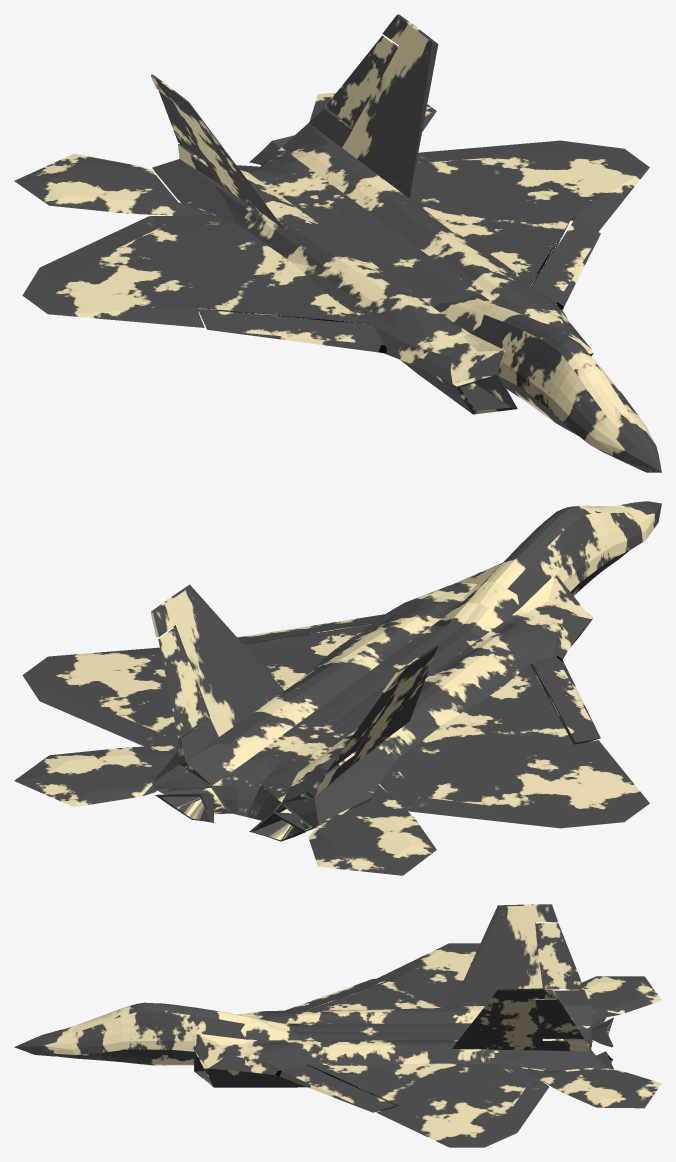
Rendered from f22blend.glb.
The picture shows the model from 3 angles, top to bottom: view 1: azimuth 30°, elevation 25°; view 2: azimuth 150°, elevation 25°; view 3: azimuth 270°, elevation 25°; orthographic projection. The views are drawn at different scales.
Parts seen in each view (by area): view 1: main_airframe, horizontle_tail_wings, leading_edge_flaps, main_wing_flaps, verticle_tail_wings; view 2: main_airframe, horizontle_tail_wings, main_wing_flaps, leading_edge_flaps, verticle_tail_wings, thrust_vectors; view 3: main_airframe, horizontle_tail_wings, verticle_tail_wings, leading_edge_flaps, main_wing_flaps, thrust_vectors.
Boxes of the visible parts, left/top/right/bottom form: main_airframe: left=22, top=14, right=661, bottom=472; horizontle_tail_wings: left=14, top=92, right=436, bottom=215; leading_edge_flaps: left=198, top=217, right=600, bottom=353; main_wing_flaps: left=40, top=140, right=575, bottom=278; verticle_tail_wings: left=159, top=35, right=398, bottom=161; main_airframe: left=22, top=501, right=661, bottom=831; horizontle_tail_wings: left=14, top=745, right=436, bottom=875; main_wing_flaps: left=40, top=689, right=575, bottom=828; leading_edge_flaps: left=237, top=614, right=600, bottom=744; verticle_tail_wings: left=158, top=627, right=399, bottom=773; thrust_vectors: left=155, top=793, right=305, bottom=841; main_airframe: left=14, top=904, right=607, bottom=1147; horizontle_tail_wings: left=524, top=976, right=661, bottom=1108; verticle_tail_wings: left=535, top=923, right=584, bottom=1038; leading_edge_flaps: left=275, top=977, right=396, bottom=1112; main_wing_flaps: left=495, top=1085, right=548, bottom=1132; thrust_vectors: left=591, top=1017, right=613, bottom=1069.
Size of the model in its own units: 18.46 by 5.31 by 24.75.
Materials: 1 (1 with a texture image).
